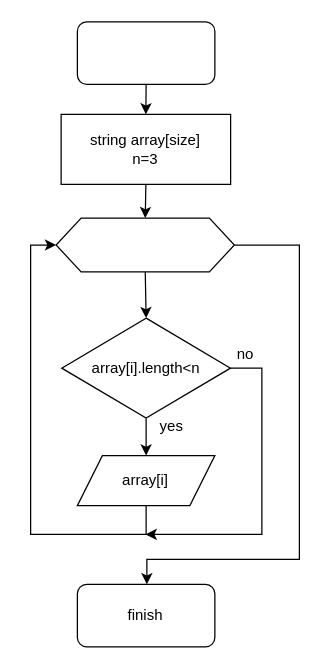
This 331x669 diagram has some shape labels left out. The shapes that lost their labels are listed below. From the top down, each one's centre as x and y in pixels, then its label:
point (145, 52): start
point (144, 244): i=0; i<size; i++
